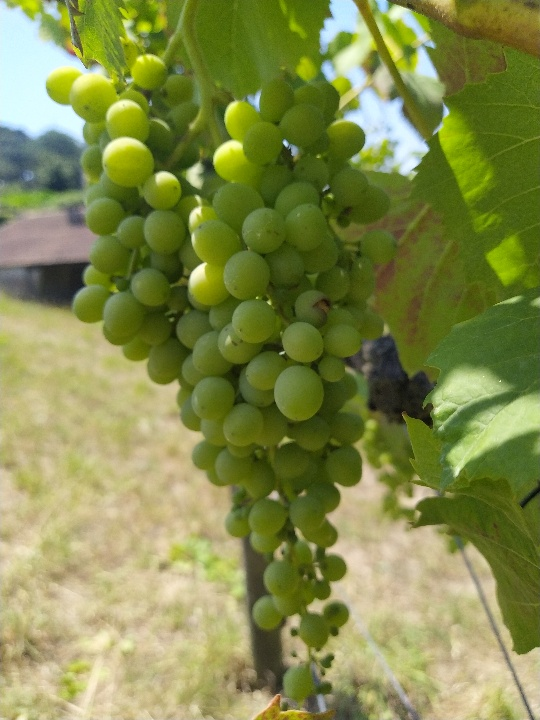grape: (42, 53, 404, 712)
